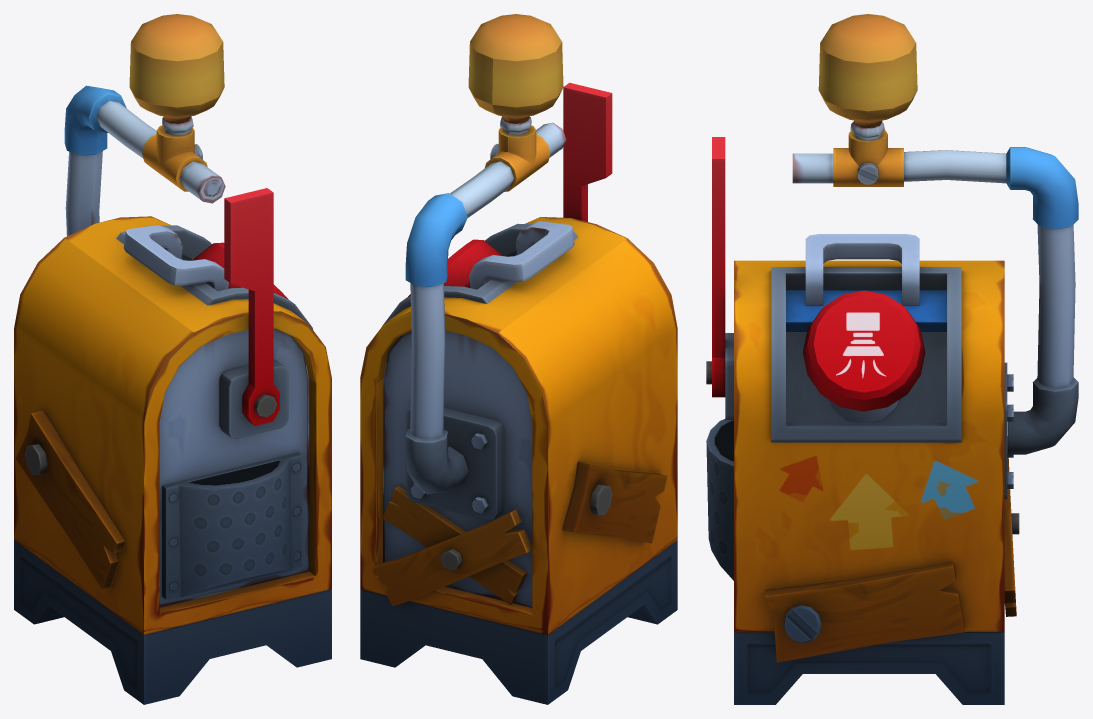
The model's file is obj_survivalobjects_pumpbutton_off.fbx.
3 views of the same model, side by side, from view 1: azimuth 30°, elevation 25°; view 2: azimuth 150°, elevation 25°; view 3: azimuth 270°, elevation 25° (orthographic). The views are drawn at different scales.
Visible parts, largest first — view 1: env_hideout_pumpbutton_off; view 2: env_hideout_pumpbutton_off; view 3: env_hideout_pumpbutton_off.
Boxes of the visible parts, x1,y1,x2,y2 form: env_hideout_pumpbutton_off: (14,14,331,704); env_hideout_pumpbutton_off: (360,14,677,704); env_hideout_pumpbutton_off: (706,14,1078,704).
Bounding box in the file's own units: 3.72 × 9.13 × 4.83.
